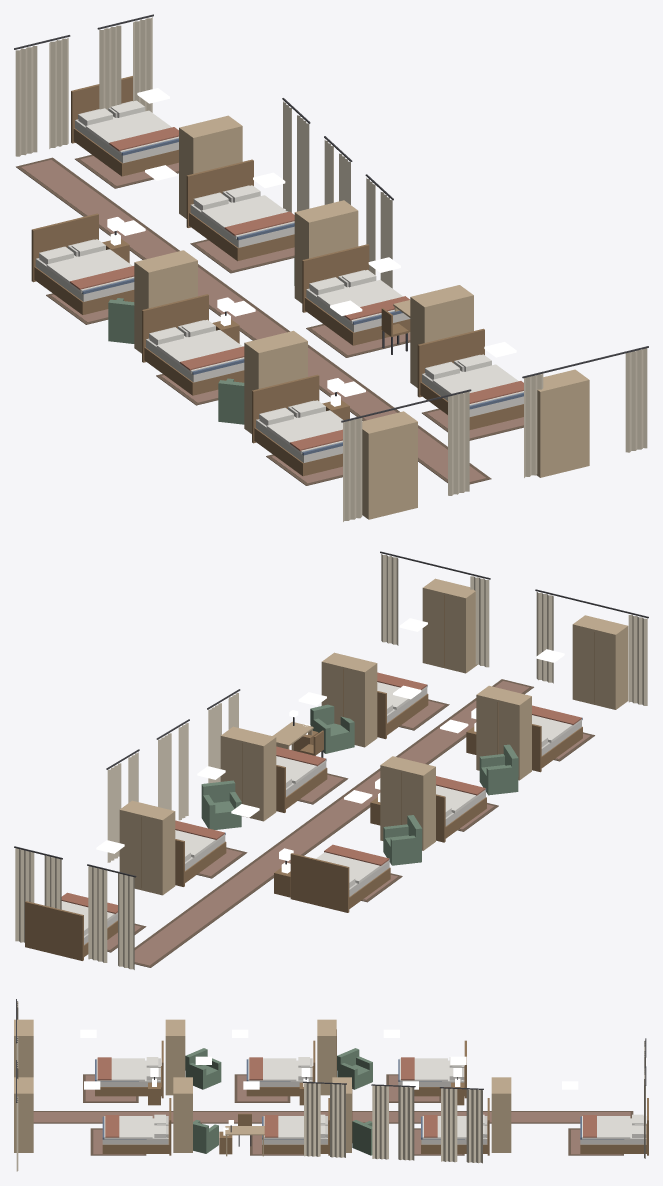
File: fine-s1.glb
3 views of the same model, one above another, from view 1: azimuth 30°, elevation 25°; view 2: azimuth 150°, elevation 25°; view 3: azimuth 270°, elevation 25° (orthographic). The views are drawn at different scales.
Visible parts, largest first — view 1: soft-s1, dresser.002, dresser.006, bed-frame.004, bed-frame.000, bed-frame.001, bed-frame.005, bed-frame.002, bed-frame.006, bed-frame.003, dresser.004, dresser.001 (+5 smaller); view 2: soft-s1, dresser.002, dresser.003, dresser.006, dresser.004, dresser.005, dresser.000, dresser.001, bed-frame.000, bed-frame.003, lounge-chair.002, lounge-chair.001 (+8 smaller); view 3: soft-s1, dresser.003, dresser.005, dresser.006, dresser.001, dresser.000, bed-frame.006, bed-frame.003, bed-frame.002, dresser.002, bed-frame.001, lounge-chair.000 (+10 smaller).
Part boxes in pixels (box(x1,y1,x2,y2)): soft-s1: box(14, 14, 648, 521); dresser.002: box(362, 411, 417, 519); dresser.006: box(536, 369, 589, 477); bed-frame.004: box(186, 159, 294, 261); bed-frame.000: box(31, 213, 134, 314); bed-frame.001: box(142, 294, 244, 395); bed-frame.005: box(302, 244, 410, 345); bed-frame.002: box(252, 374, 342, 476); bed-frame.006: box(417, 328, 523, 429); bed-frame.003: box(71, 76, 178, 176); dresser.004: box(294, 200, 358, 303); dresser.001: box(244, 330, 307, 433); soft-s1: box(14, 551, 648, 969); dresser.002: box(572, 615, 628, 709); dresser.003: box(119, 800, 175, 895); dresser.006: box(422, 578, 477, 673); dresser.004: box(220, 726, 276, 821); dresser.005: box(321, 652, 377, 747); dresser.000: box(380, 756, 435, 850); dresser.001: box(476, 685, 531, 780); bed-frame.000: box(290, 853, 390, 912); bed-frame.003: box(25, 901, 117, 960); lounge-chair.002: box(201, 780, 241, 829); lounge-chair.001: box(479, 744, 518, 795); soft-s1: box(16, 999, 646, 1171); dresser.003: box(491, 1077, 511, 1152); dresser.005: box(173, 1077, 192, 1152); dresser.006: box(14, 1077, 33, 1152); dresser.001: box(165, 1019, 185, 1095); dresser.000: box(317, 1019, 336, 1095); bed-frame.006: box(102, 1098, 171, 1155); bed-frame.003: box(580, 1098, 648, 1155); bed-frame.002: box(95, 1040, 163, 1098); dresser.002: box(14, 1019, 33, 1077); bed-frame.001: box(246, 1040, 315, 1096); lounge-chair.000: box(337, 1048, 372, 1089).
Size of the model in its own units: 7.47 by 2.56 by 19.42.
